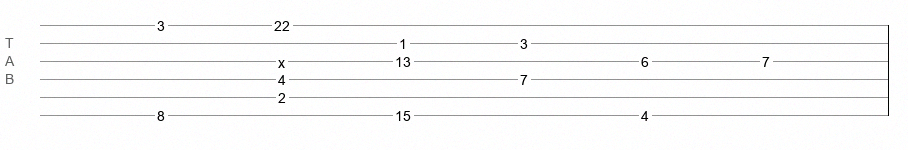1: (399, 36, 407, 46)
13: (395, 54, 411, 64)
15: (395, 108, 411, 118)
2: (278, 90, 286, 100)
22: (274, 18, 290, 28)
3: (157, 18, 165, 28), (520, 36, 528, 46)
4: (278, 72, 286, 82), (641, 108, 649, 118)
6: (641, 54, 649, 64)
7: (520, 72, 528, 82), (762, 54, 770, 64)
8: (157, 108, 165, 118)
x: (278, 55, 285, 63)
